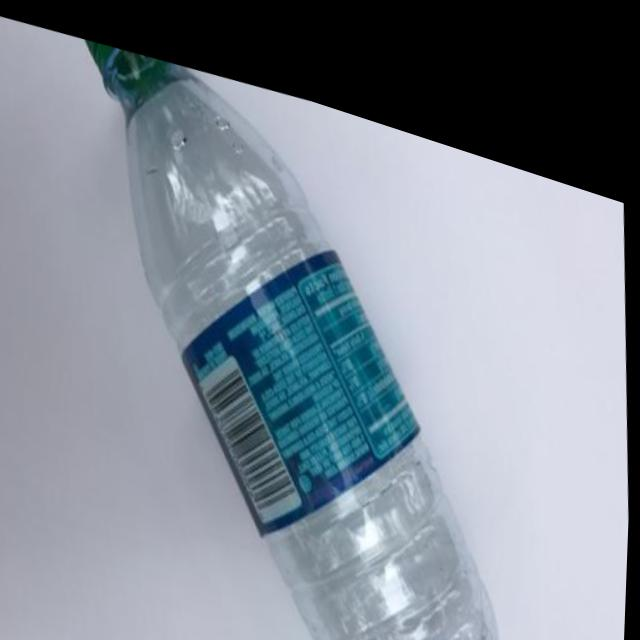plastic: (45, 17, 538, 640)
